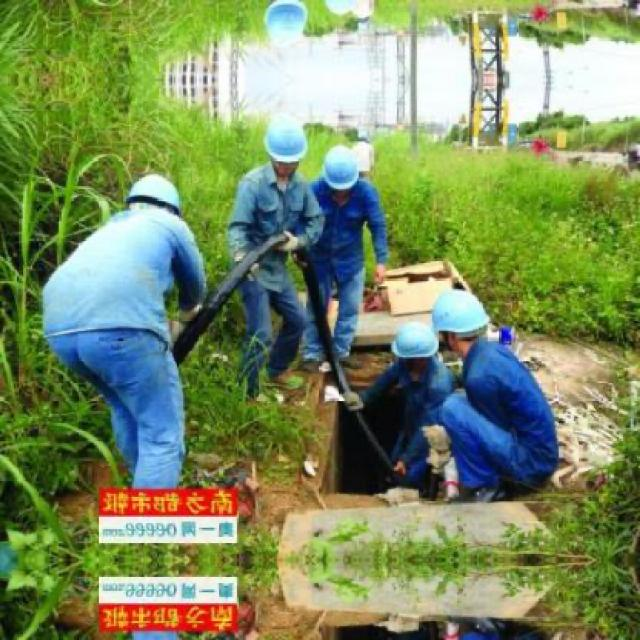helmet: (434, 285, 489, 357), (120, 177, 186, 234), (265, 114, 309, 177), (392, 320, 437, 372), (264, 0, 310, 48), (323, 141, 360, 194), (322, 0, 360, 20)
